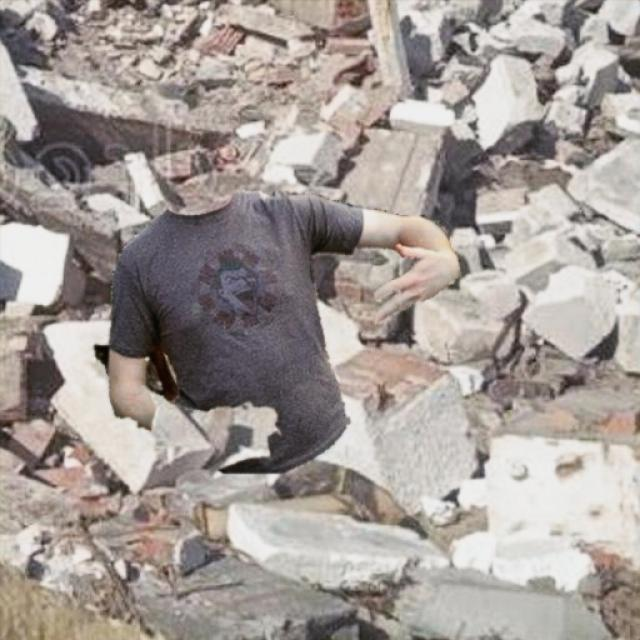Person in Rubble: (94, 190, 460, 472)
